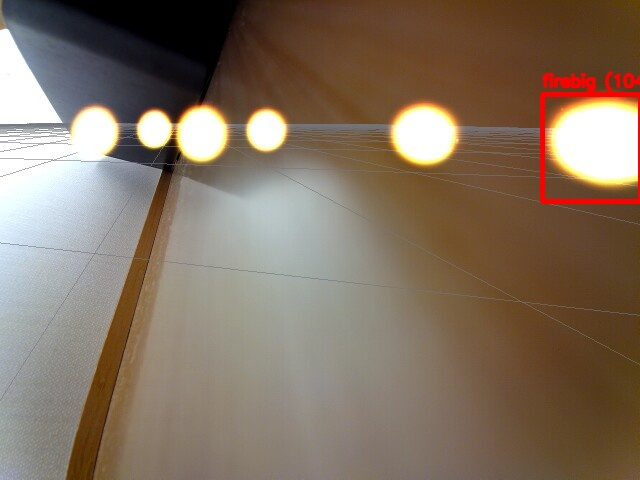firebig: (542, 94, 640, 201)
